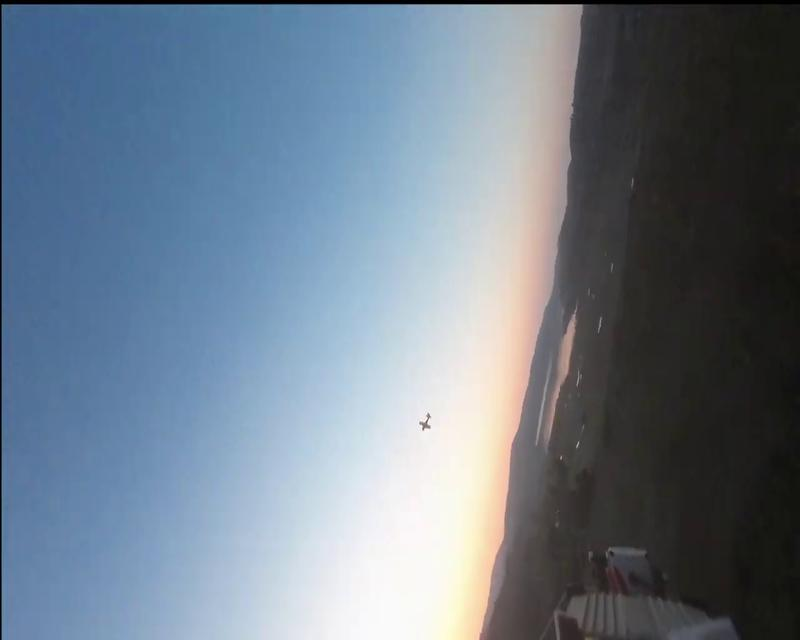UAV: (417, 411, 431, 431)
